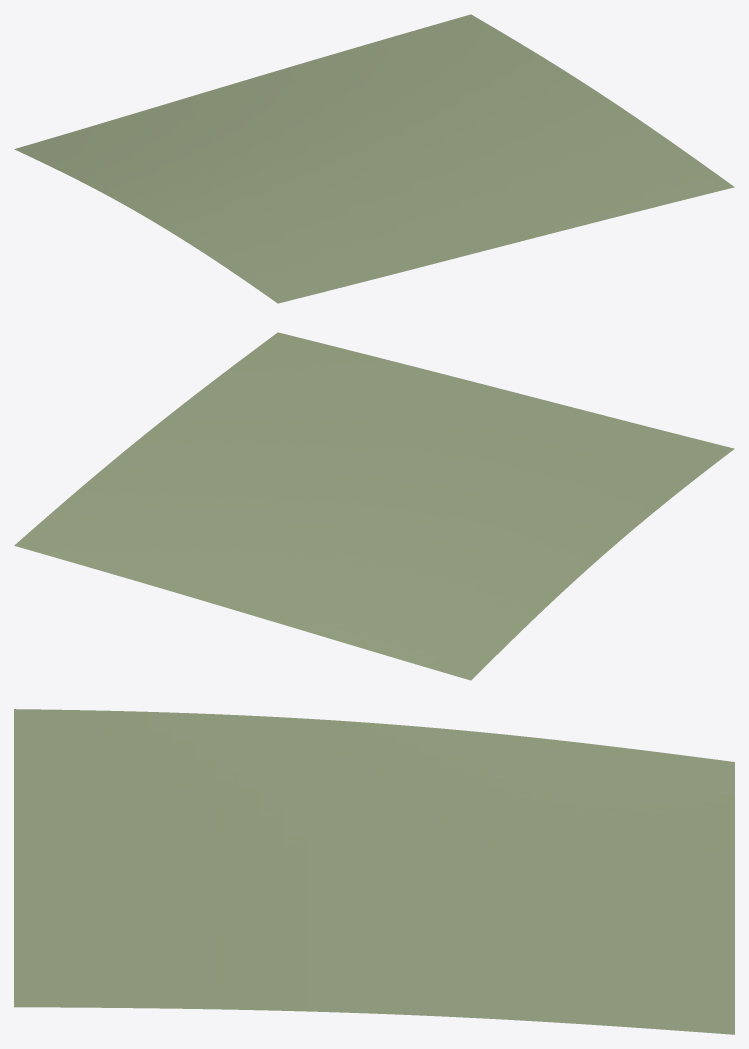
File: desert-25-6.glb
The picture shows the model from 3 angles, top to bottom: view 1: azimuth 30°, elevation 25°; view 2: azimuth 150°, elevation 25°; view 3: azimuth 270°, elevation 25°; orthographic projection. The views are drawn at different scales.
Parts seen in each view (by area): view 1: desert-25-6; view 2: desert-25-6; view 3: desert-25-6.
Part boxes in pixels (x1,y1,x2,y2): desert-25-6: [14, 14, 734, 303]; desert-25-6: [14, 332, 734, 680]; desert-25-6: [14, 709, 734, 1034].
Bounding box in the file's own units: 512 × 46.65 × 512.
